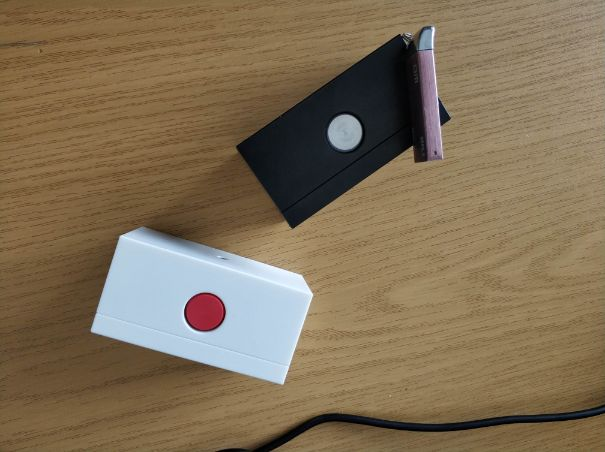black+black+silver: (229, 31, 457, 232)
white+white+red: (86, 224, 316, 389)
